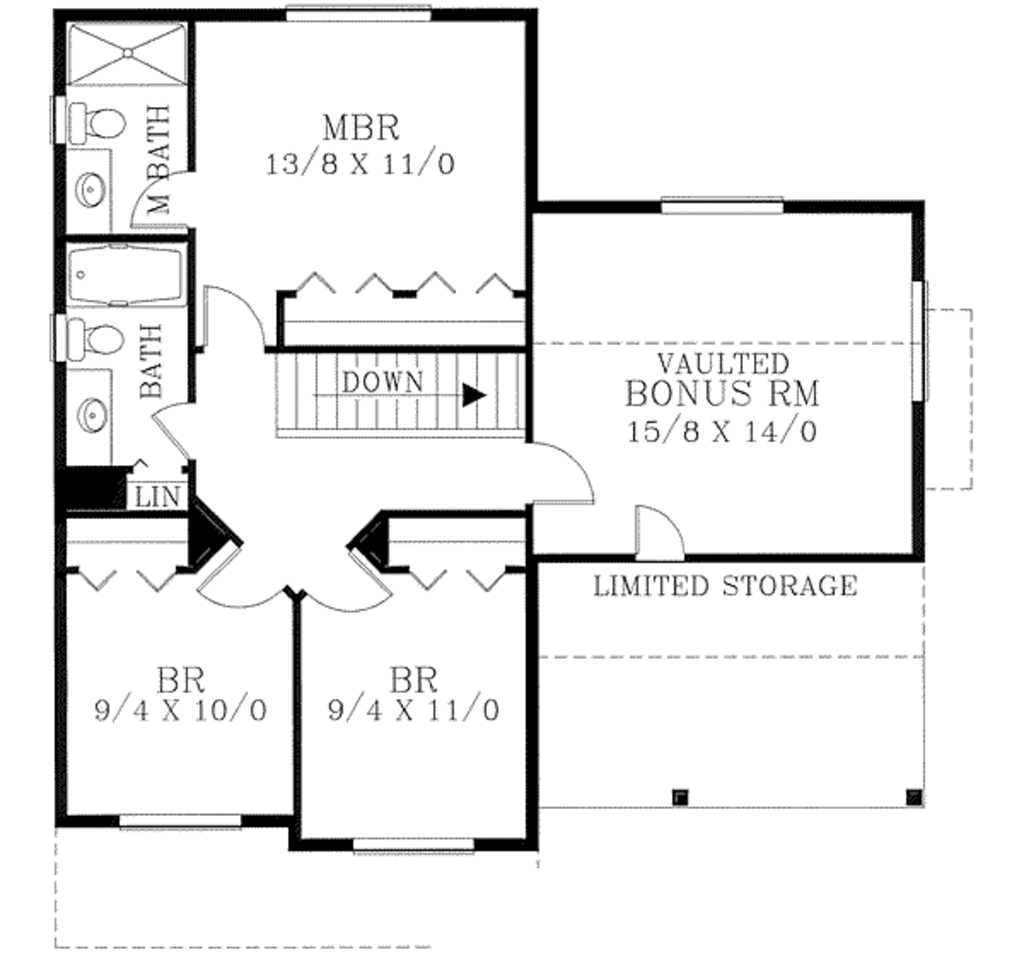door: (294, 539, 399, 615), (192, 531, 285, 608), (194, 283, 272, 355), (129, 166, 211, 230), (624, 487, 689, 565), (529, 439, 604, 503), (149, 391, 208, 469)
large_sink: (60, 87, 133, 146), (55, 308, 127, 367)
small_sink: (65, 369, 122, 475), (62, 147, 113, 237)
stairs: (272, 350, 534, 444)
tub: (58, 242, 185, 306)
window: (653, 187, 793, 218), (105, 807, 244, 832), (285, 1, 431, 24), (910, 283, 936, 402), (350, 832, 478, 856)
